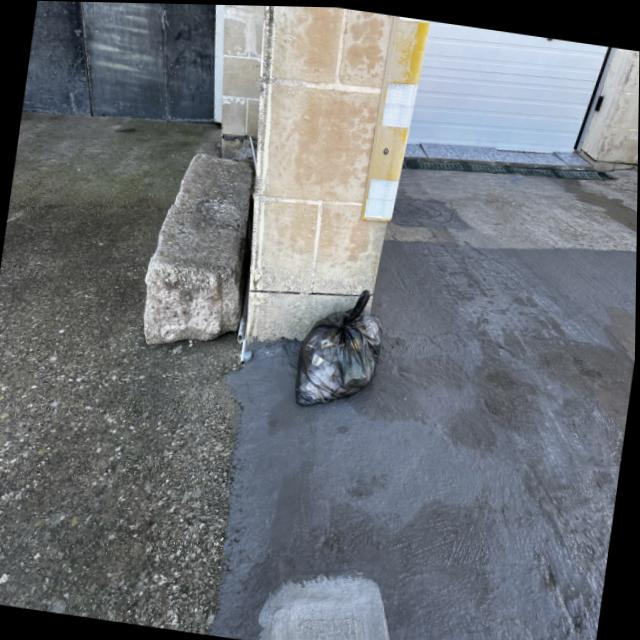Mixed Waste -Black Bags-: (296, 287, 383, 403)
